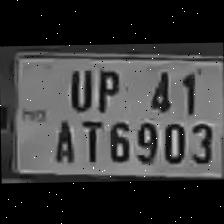0: (158, 118, 184, 162)
1: (174, 64, 200, 112)
3: (186, 118, 214, 163)
4: (142, 64, 173, 112)
6: (102, 116, 130, 162)
9: (132, 116, 158, 161)
A: (48, 114, 76, 162)
P: (91, 62, 122, 110)
T: (76, 115, 103, 162)
U: (63, 64, 92, 109)
